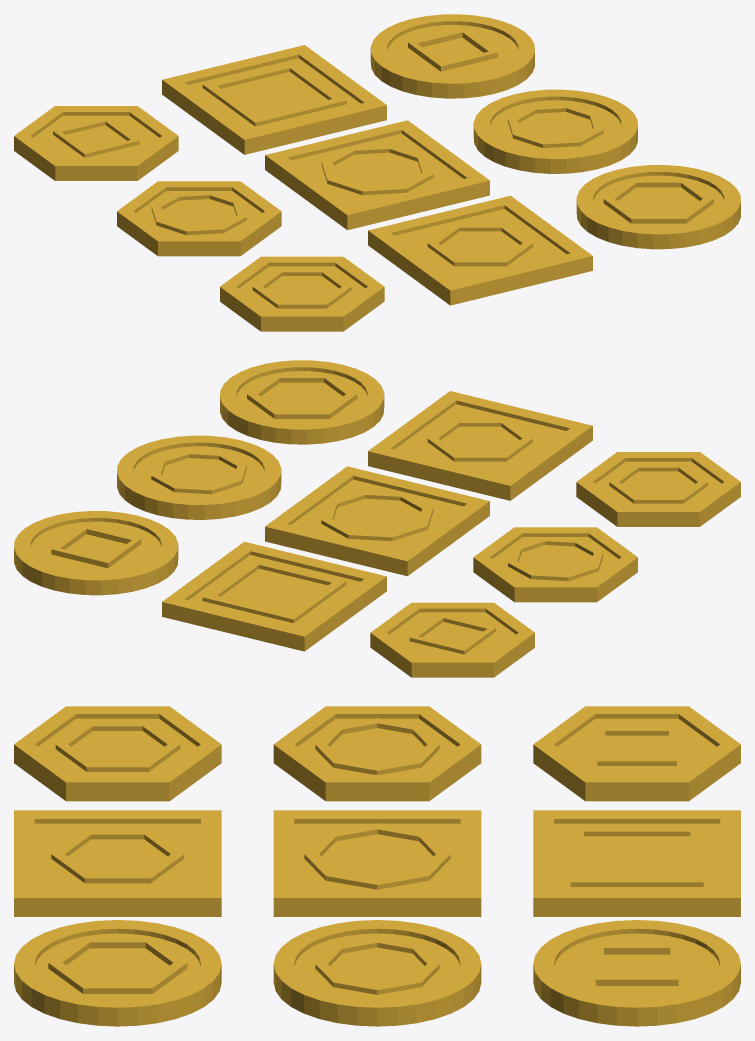
The model's file is coins_pack.fbx.
3 renders of one model, top to bottom at view 1: azimuth 30°, elevation 25°; view 2: azimuth 150°, elevation 25°; view 3: azimuth 270°, elevation 25°, orthographic. The views are drawn at different scales.
Parts seen in each view (by area): view 1: Cylinder.002, Cube.002, Cube.003, Cube, Cylinder.001, Cylinder, Cylinder.003, Cylinder.005, Cube.001; view 2: Cylinder.002, Cube.002, Cube.003, Cylinder, Cylinder.001, Cube, Cylinder.003, Cube.001, Cylinder.005; view 3: Cylinder.002, Cube.002, Cube.003, Cylinder.001, Cube, Cylinder, Cylinder.003, Cube.001, Cylinder.005.
Boxes of the visible parts, left/top/right/bottom form: Cylinder.002: left=265, top=120, right=489, bottom=230; Cube.002: left=368, top=195, right=592, bottom=305; Cube.003: left=162, top=45, right=386, bottom=154; Cube: left=370, top=14, right=534, bottom=98; Cylinder.001: left=473, top=89, right=637, bottom=173; Cylinder: left=576, top=165, right=740, bottom=249; Cylinder.003: left=117, top=181, right=281, bottom=256; Cylinder.005: left=220, top=256, right=384, bottom=331; Cube.001: left=14, top=106, right=178, bottom=180; Cylinder.002: left=265, top=466, right=489, bottom=576; Cube.002: left=368, top=391, right=592, bottom=500; Cube.003: left=162, top=541, right=386, bottom=651; Cylinder: left=220, top=360, right=384, bottom=444; Cylinder.001: left=117, top=435, right=281, bottom=519; Cube: left=14, top=511, right=178, bottom=595; Cylinder.003: left=473, top=527, right=637, bottom=602; Cube.001: left=370, top=602, right=534, bottom=677; Cylinder.005: left=576, top=452, right=740, bottom=526; Cylinder.002: left=273, top=810, right=481, bottom=916; Cube.002: left=14, top=810, right=221, bottom=916; Cube.003: left=533, top=810, right=740, bottom=916; Cylinder.001: left=273, top=920, right=481, bottom=1026; Cube: left=533, top=920, right=740, bottom=1026; Cylinder: left=14, top=920, right=221, bottom=1026; Cylinder.003: left=273, top=706, right=481, bottom=801; Cube.001: left=533, top=706, right=740, bottom=801; Cylinder.005: left=14, top=706, right=221, bottom=801.
Bounding box in the file's own units: 687 × 24 × 700.
